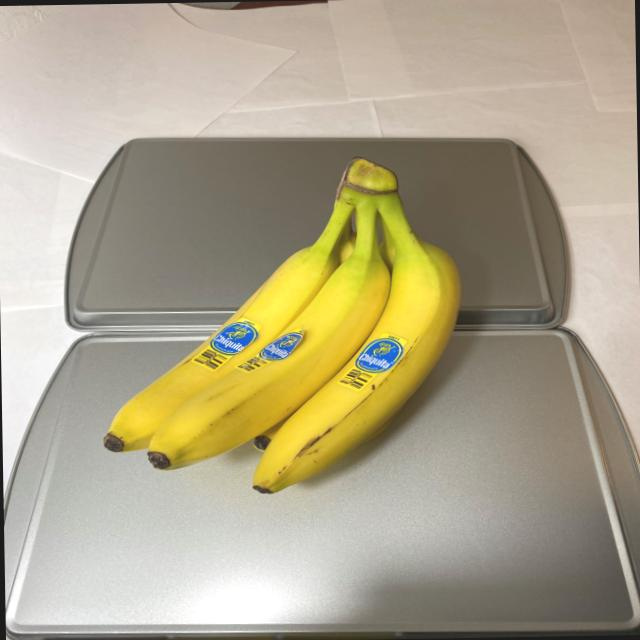banana: (93, 154, 470, 500)
